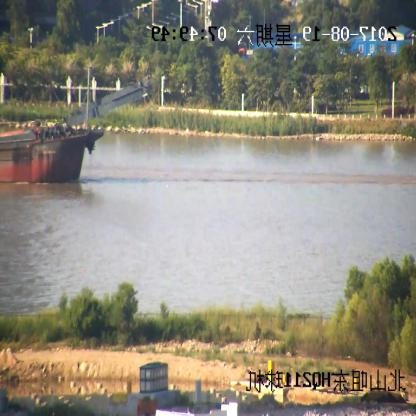Bulk Carrier: (1, 77, 148, 183)
